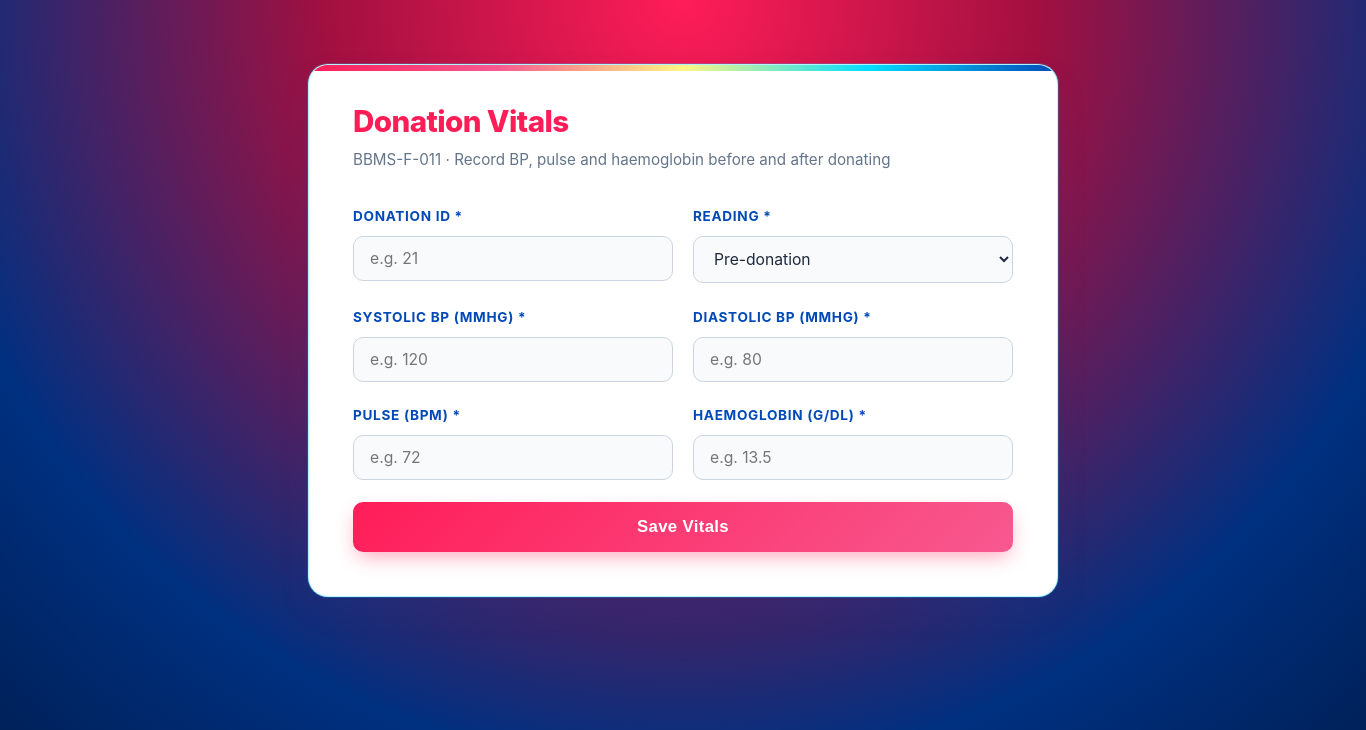
it: TC-Don-02: DonationVitalsForm (client) › shows a visible warning for each out-of-range reading (AC 3)
Step 1. Type "21" into the number field labelled "Donation ID *" → (513,259), box [353,236,673,281]
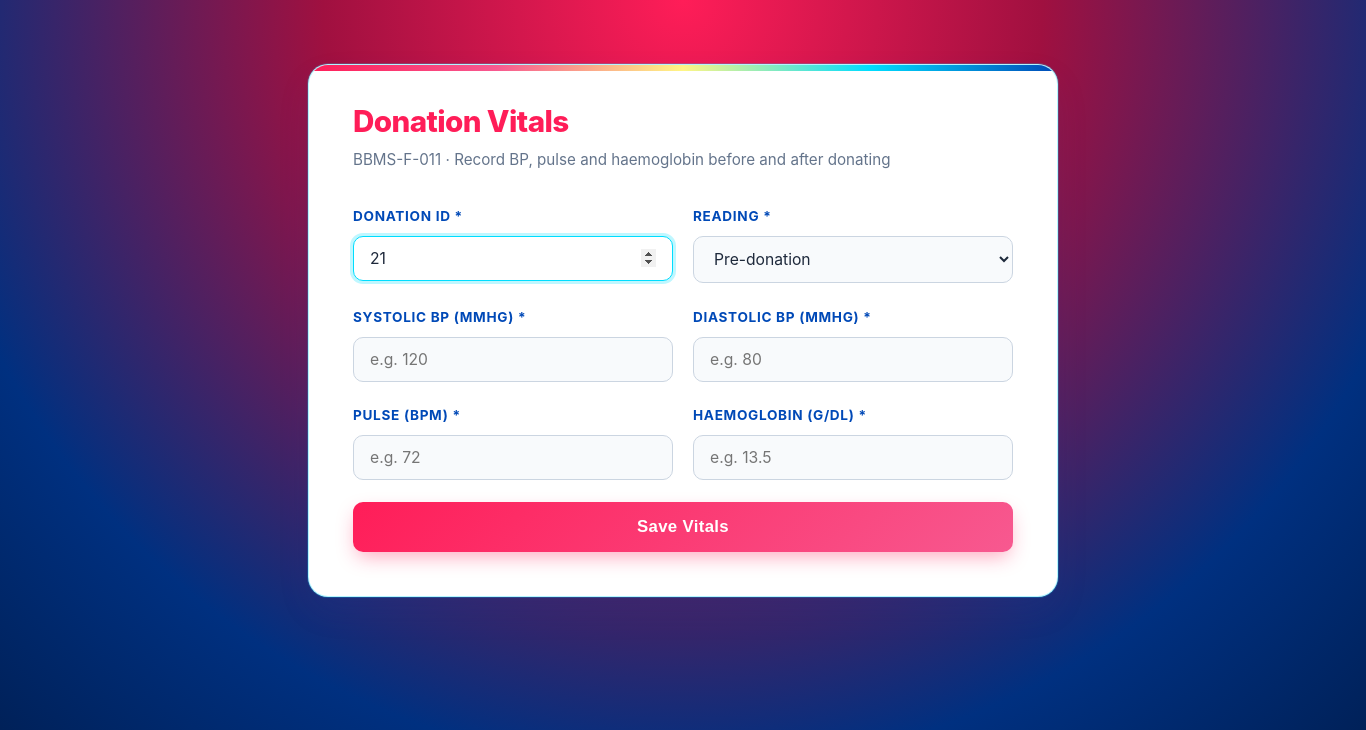
Step 2. Type "141" into the number field labelled "Systolic BP (mmHg) *" → (513,359), box [353,337,673,382]
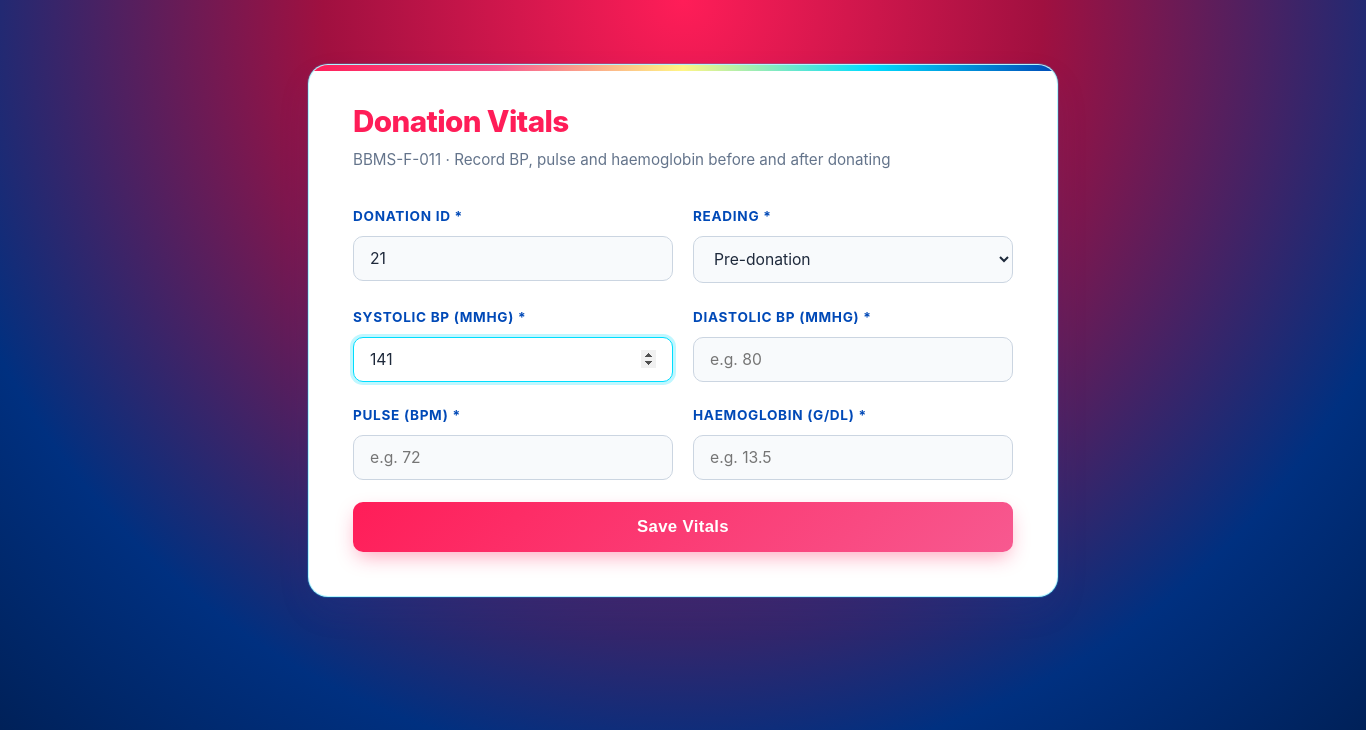
Step 3. Type "80" into the number field labelled "Diastolic BP (mmHg) *" → (853,359), box [693,337,1013,382]
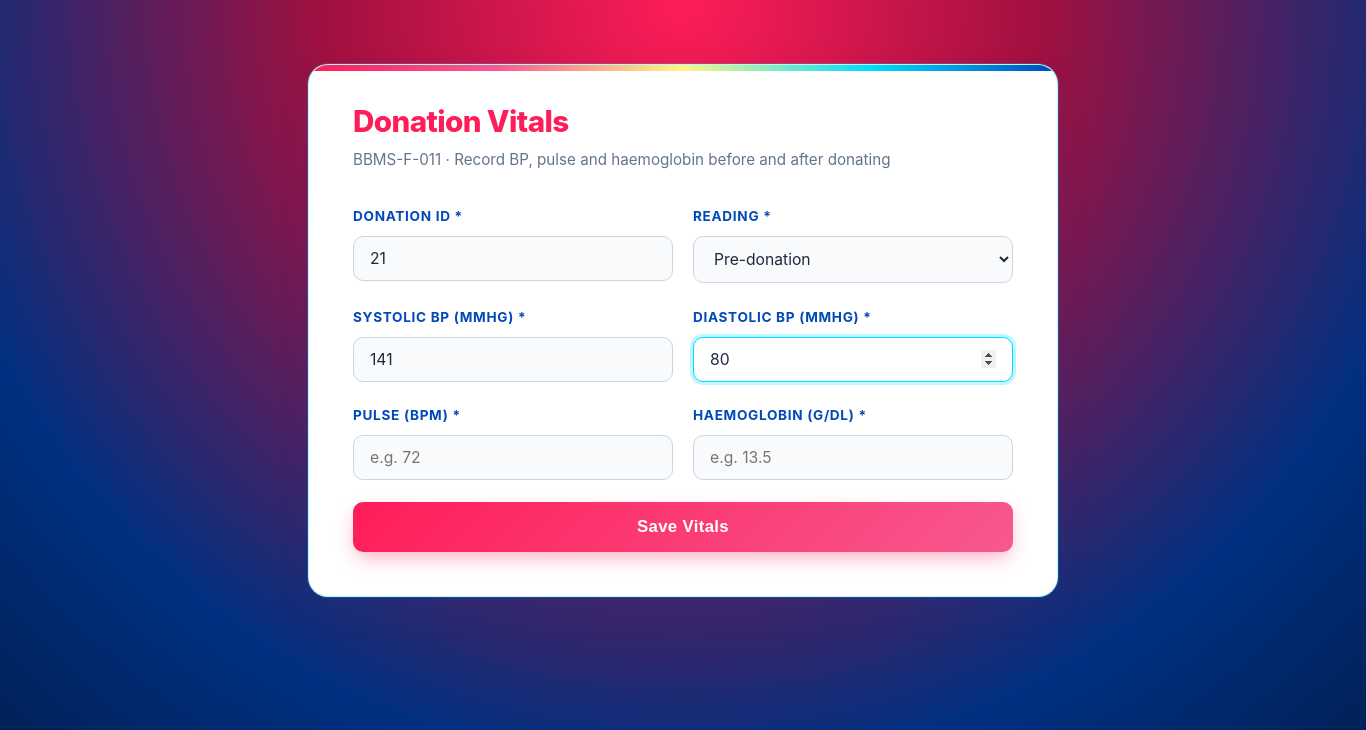
Step 4. Type "59" into the number field labelled "Pulse (bpm) *" → (513,458), box [353,435,673,480]
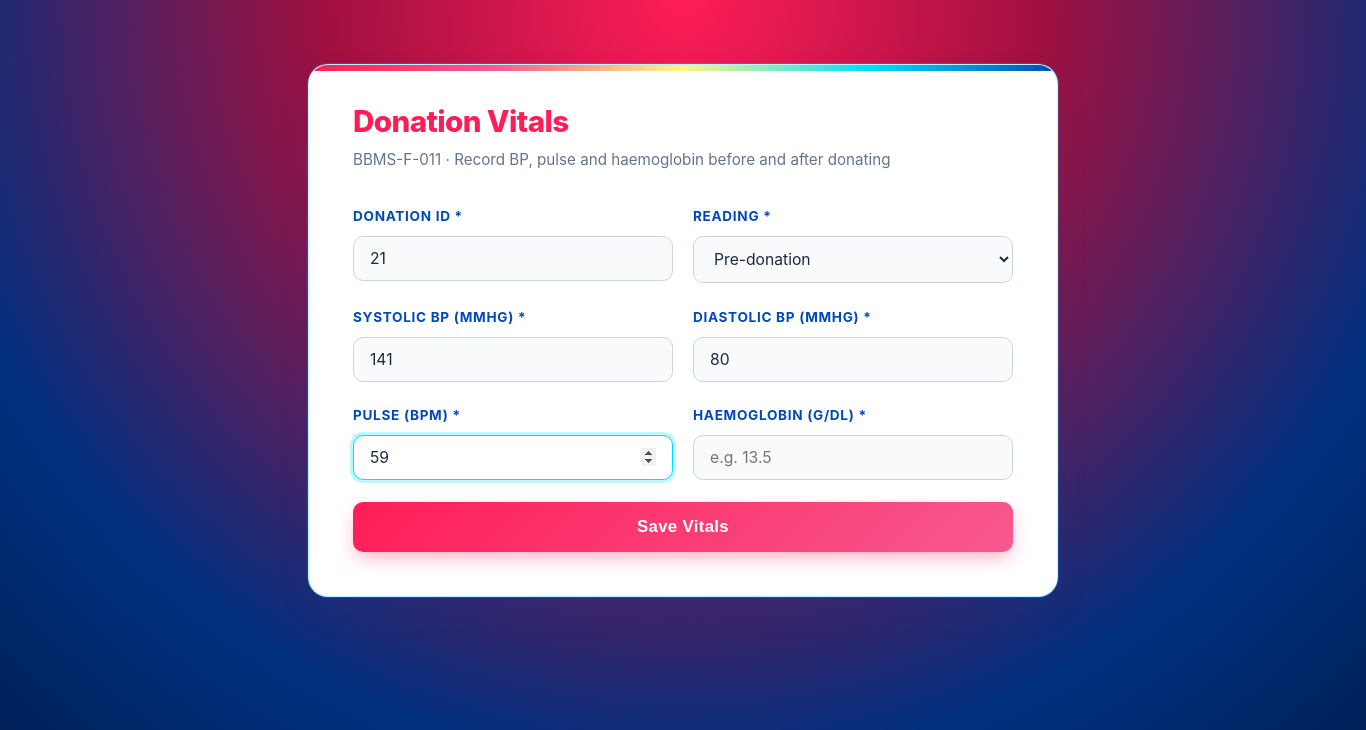
Step 5. Type "13.5" into the number field labelled "Haemoglobin (g/dL) *" → (853,458), box [693,435,1013,480]
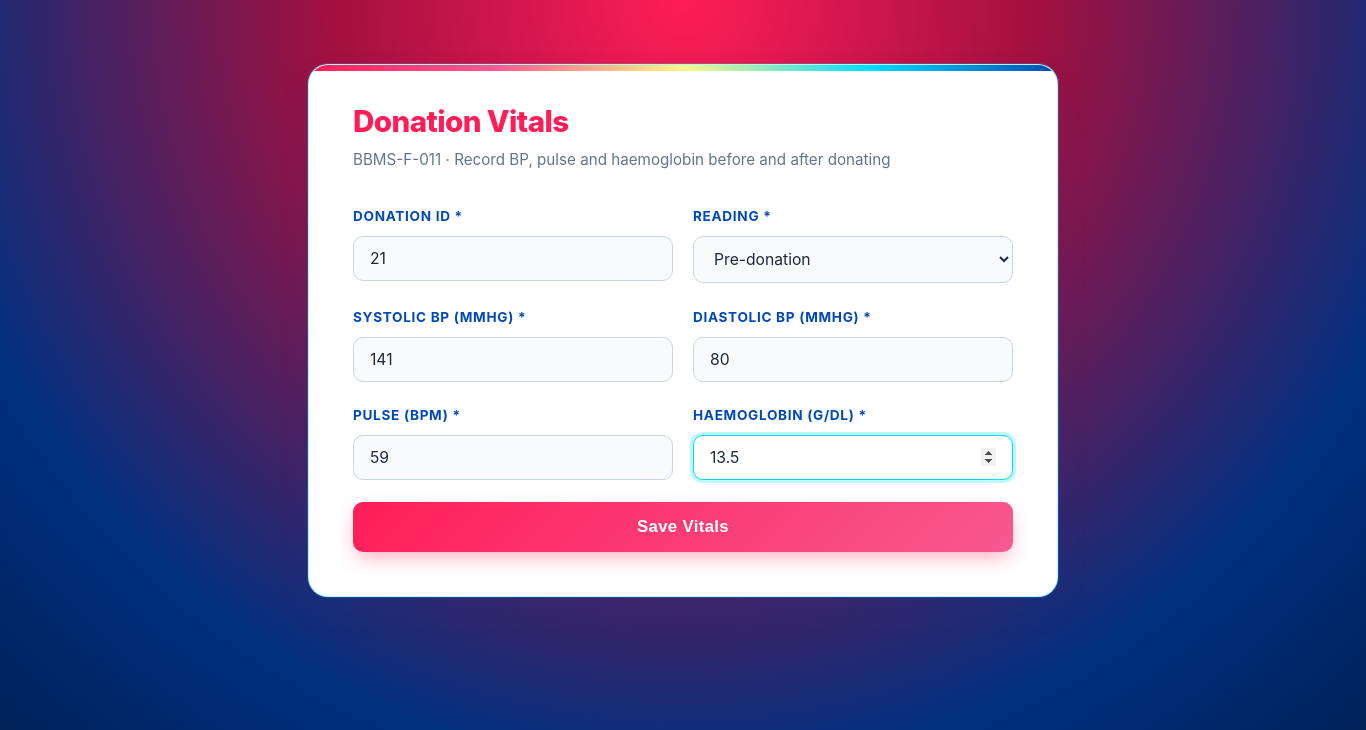
Step 6. Click the button "Save Vitals" → (683,527), box [353,502,1013,552]
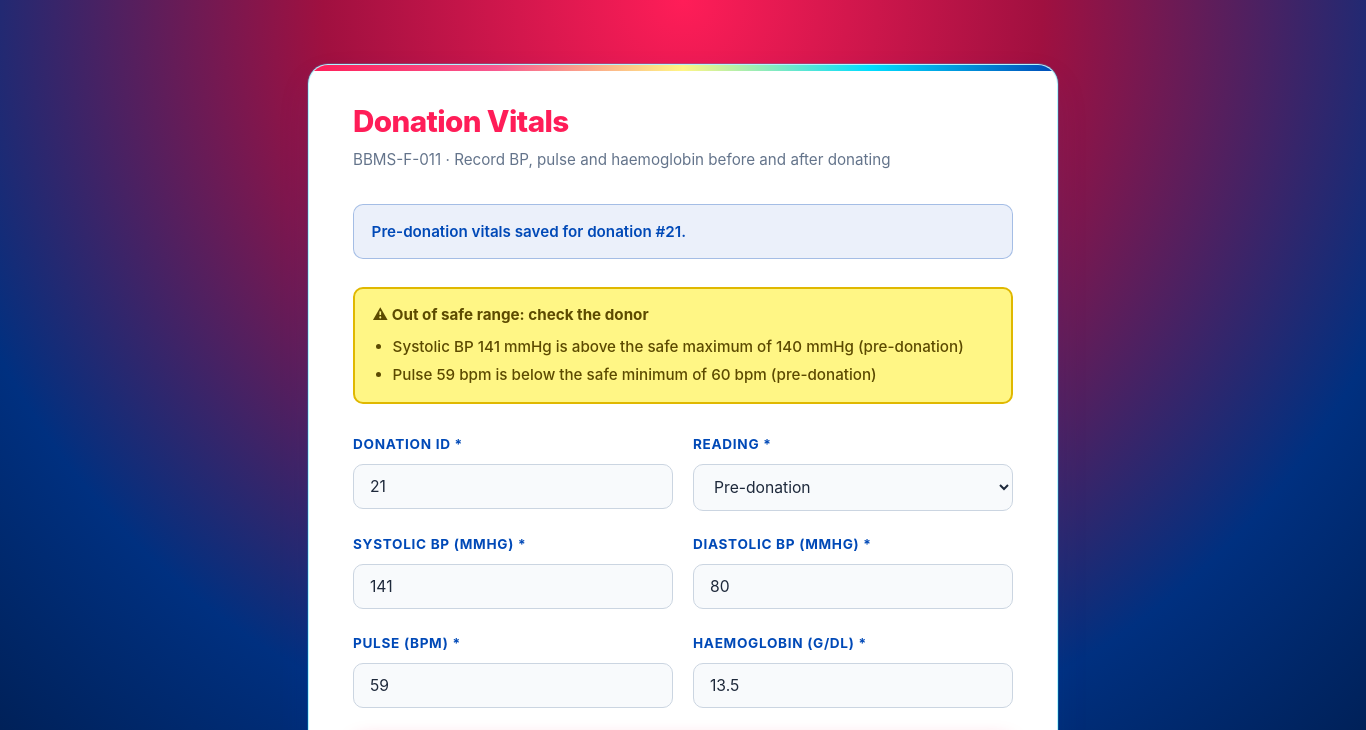
expect the message with test id "vitals-warnings" shows "Out of safe range": met, box [373,305,649,324]
expect the number of list items is 2: met, box [393,335,993,359]; [393,365,877,384]
expect the 1st list item shows "Systolic BP 141 mmHg is above the safe maximum of 140 mmHg": met, box [393,337,964,356]
